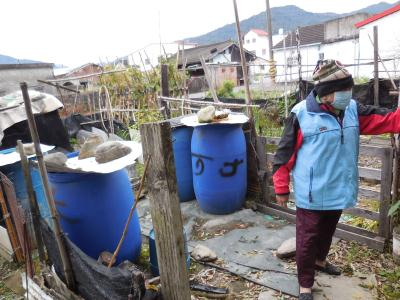bucket: (49, 152, 140, 266), (191, 125, 248, 216)
